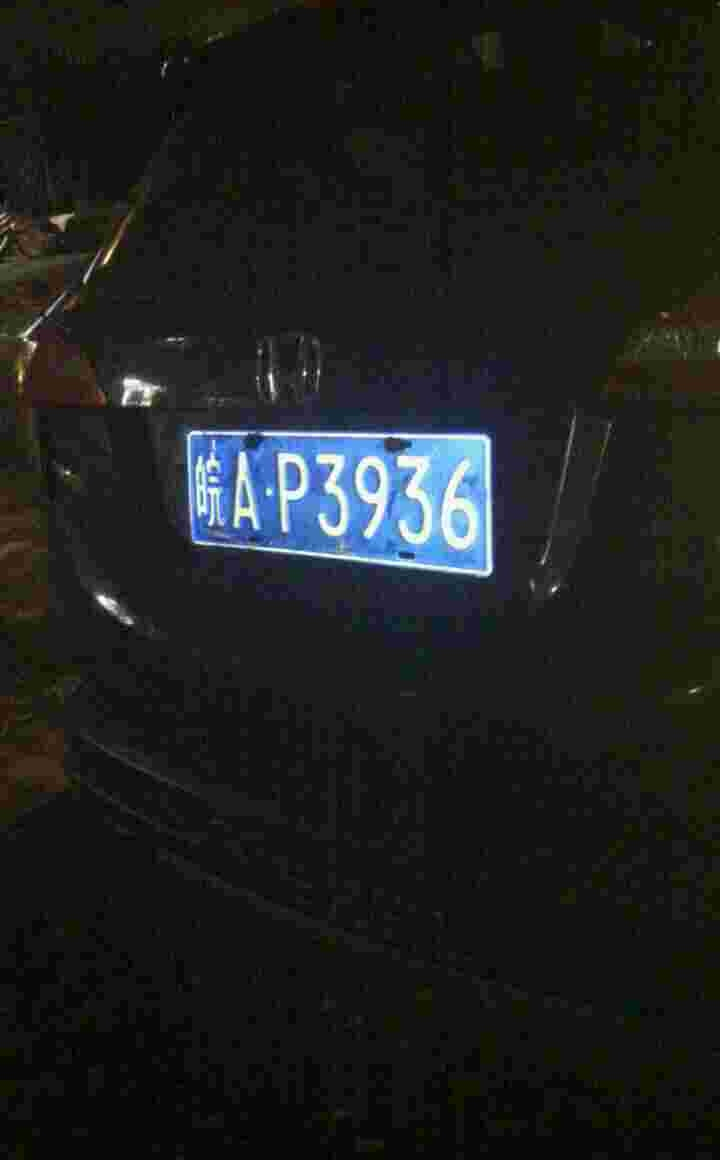car: (176, 423, 504, 579)
